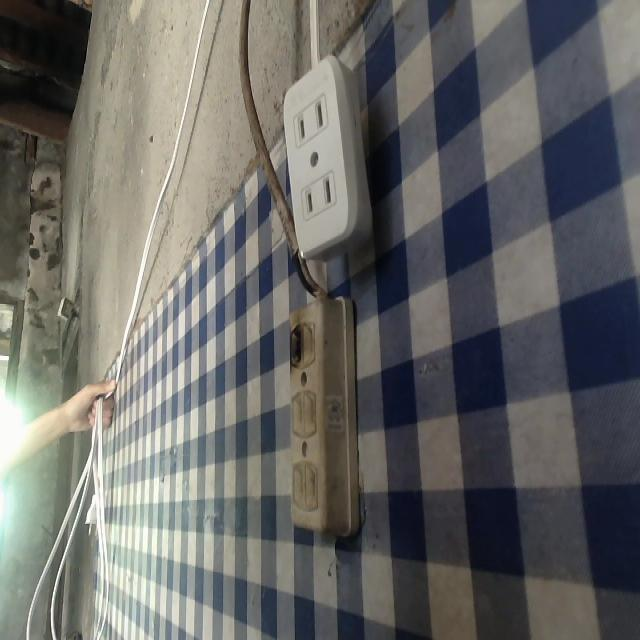-: (284, 322, 304, 367)
